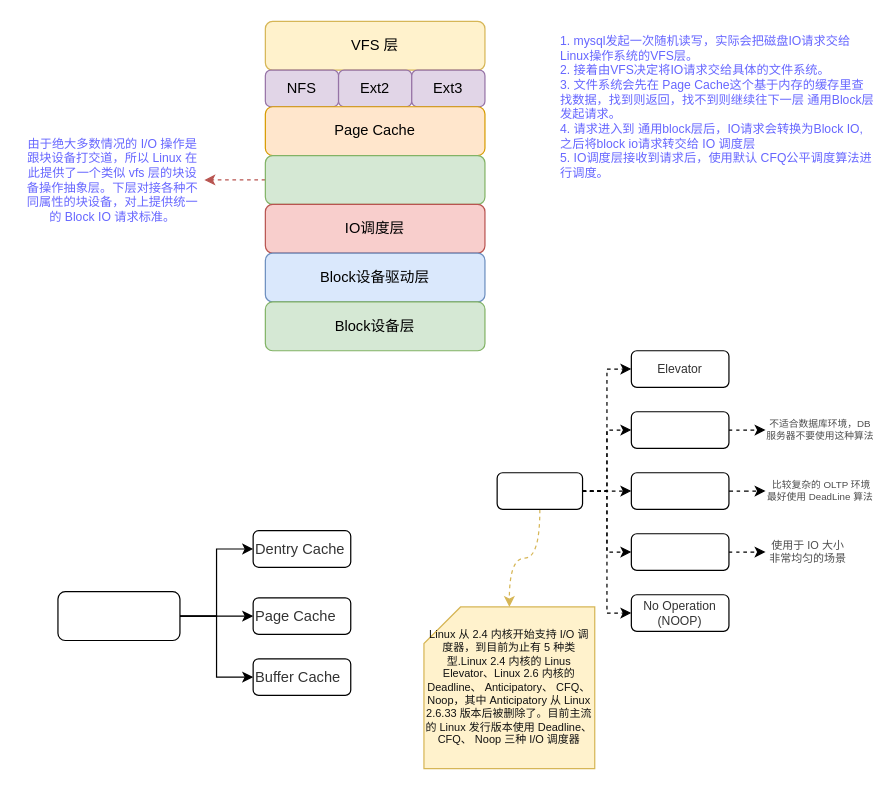
Image size: 895x791. Some labels were removed from this diagram. Here are the shapes that lost their labels. From the top down, the centre of each, then its label:
the point at 374,179: 通用块层
the point at 679,429: Anticipatory
the point at 539,490: IO调度器
the point at 679,490: DeadLine
the point at 679,551: Complete Fair Scheduler (CFQ)
the point at 118,615: 磁盘缓存在Linux中的三种类型
